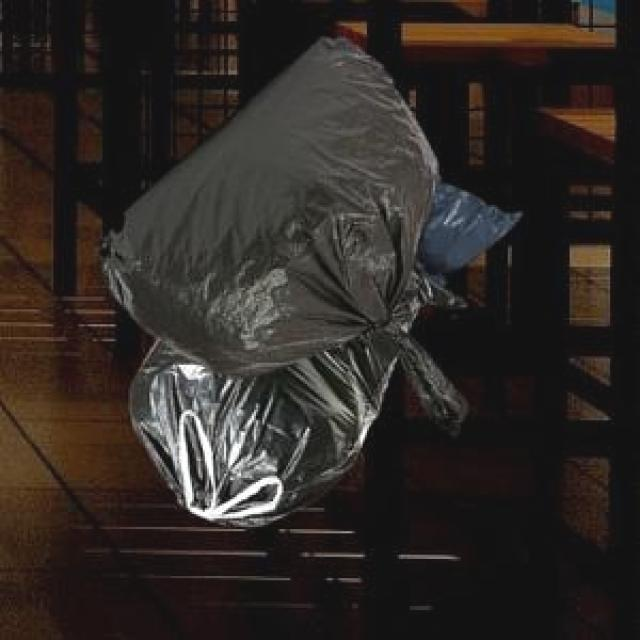Trashbag: (92, 30, 474, 382)
